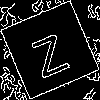Z: (25, 25, 71, 79)
